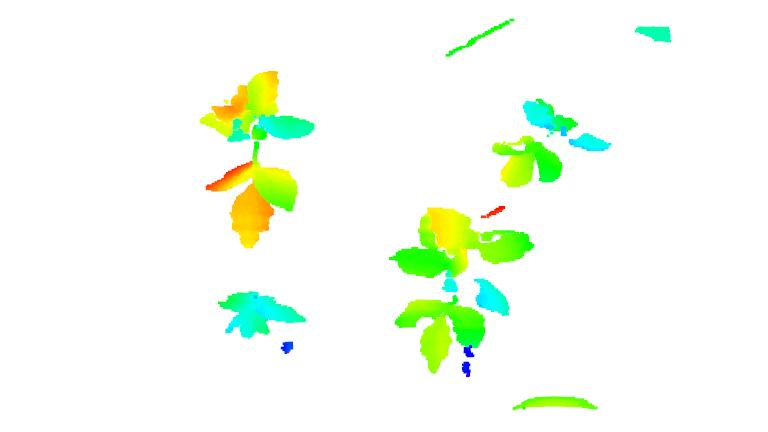mungbean: (193, 67, 328, 248), (388, 204, 532, 373), (493, 95, 618, 192), (194, 284, 307, 341)
